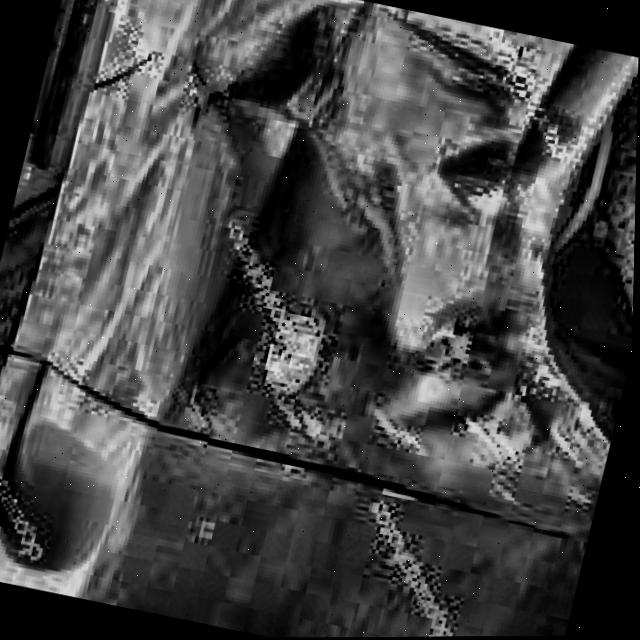door_dent: (167, 0, 604, 395)
